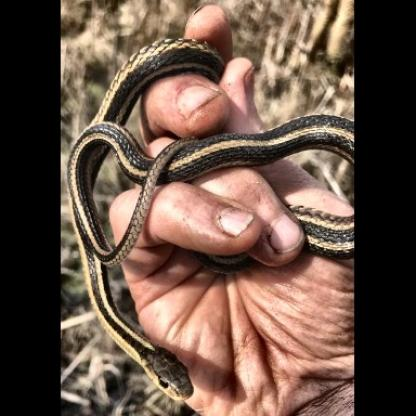Snake: (69, 43, 344, 398)
